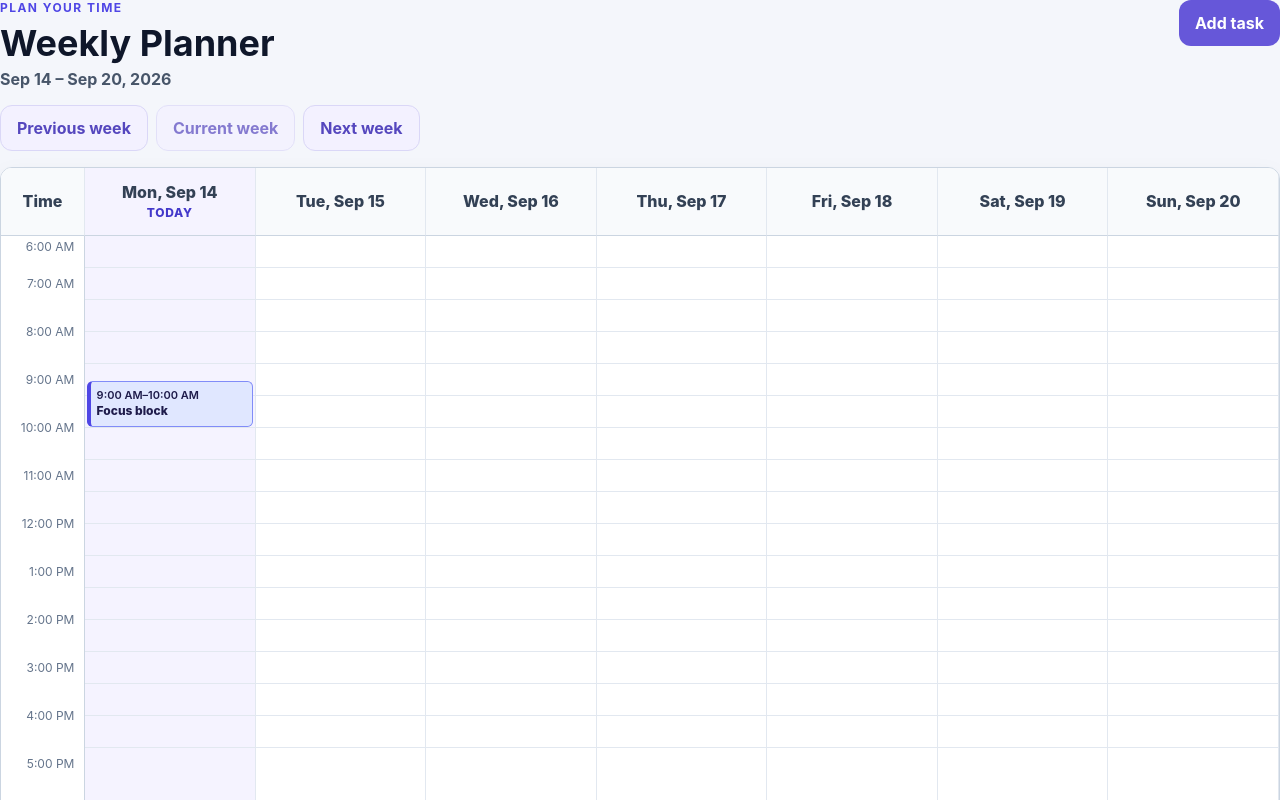
WeeklyPlannerPage › edits an existing task
Click the button with aria-label "Edit Focus block" at (170, 404), box [87,381,253,427]
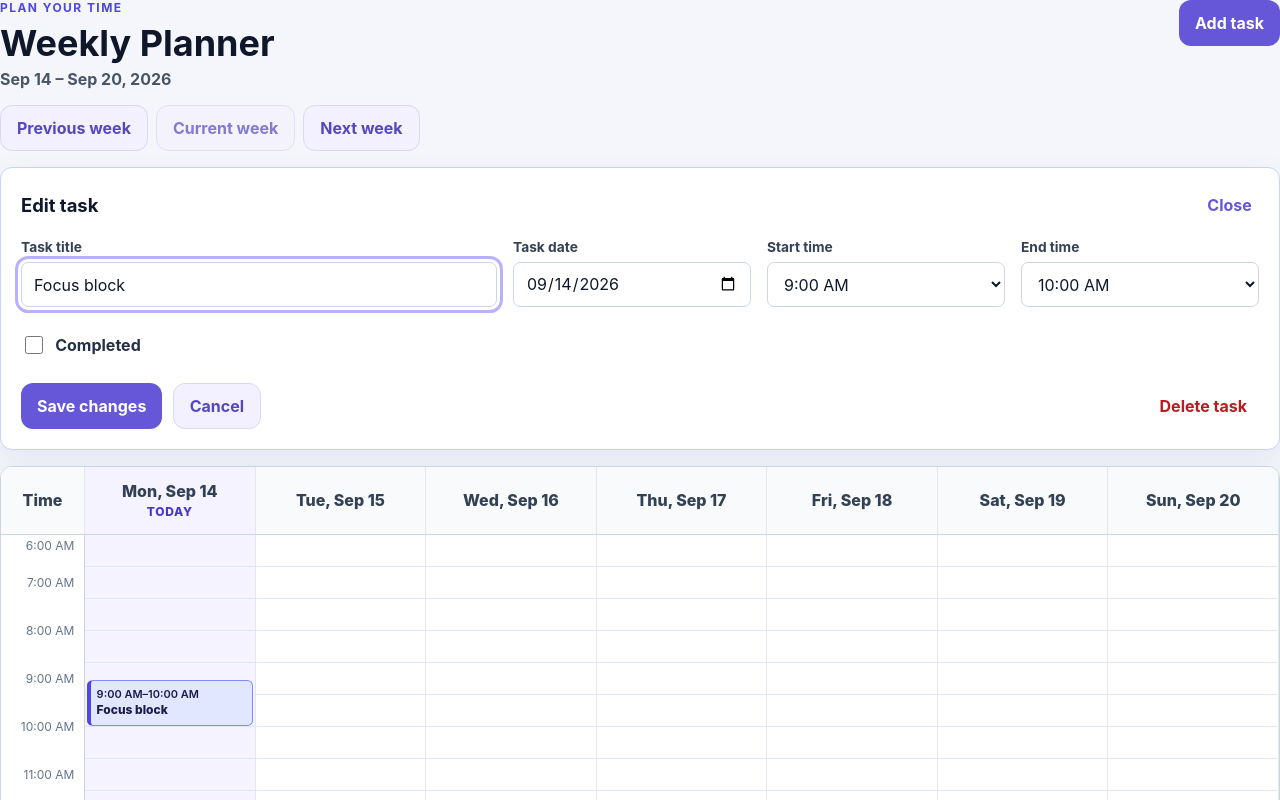
Replace the text in the field labelled "Task title" with "Deep work" at (259, 285), box [21,262,497,307]
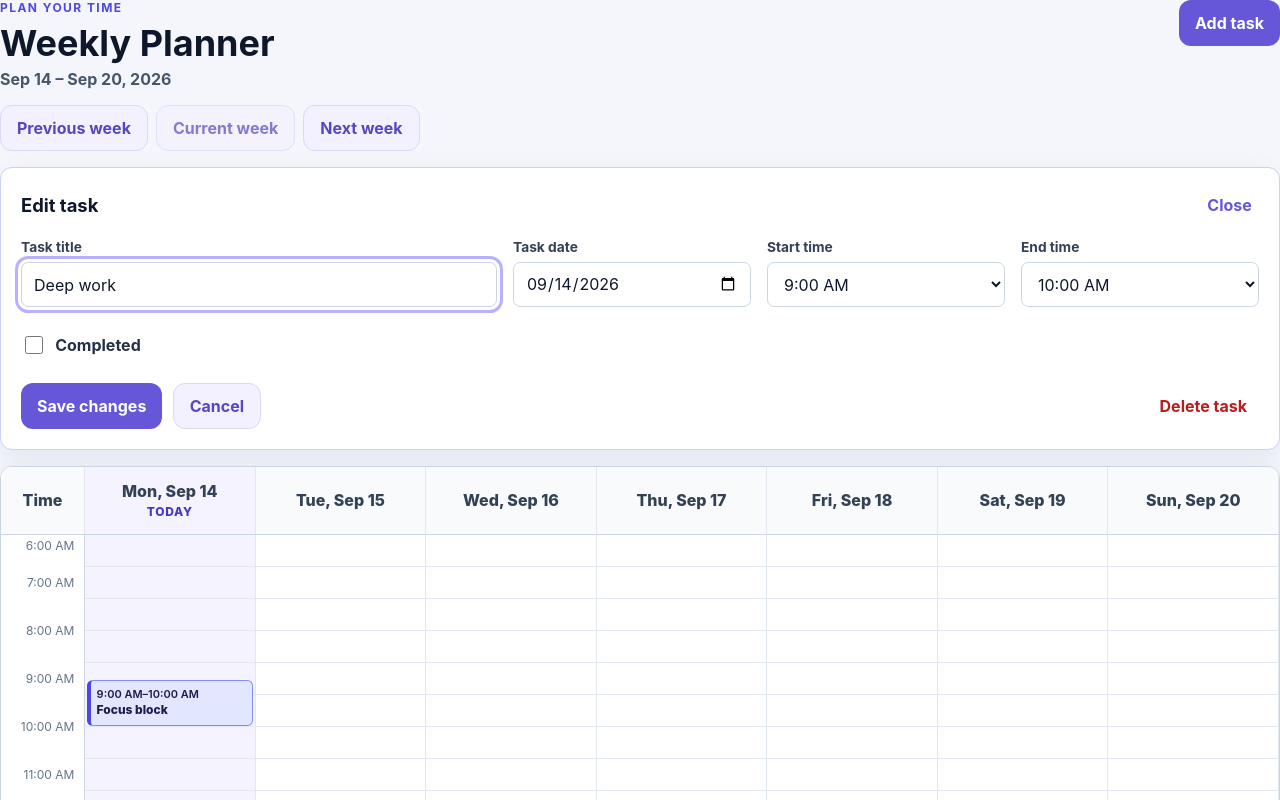
Click the button "Save changes" at (92, 406), box [21,383,162,429]
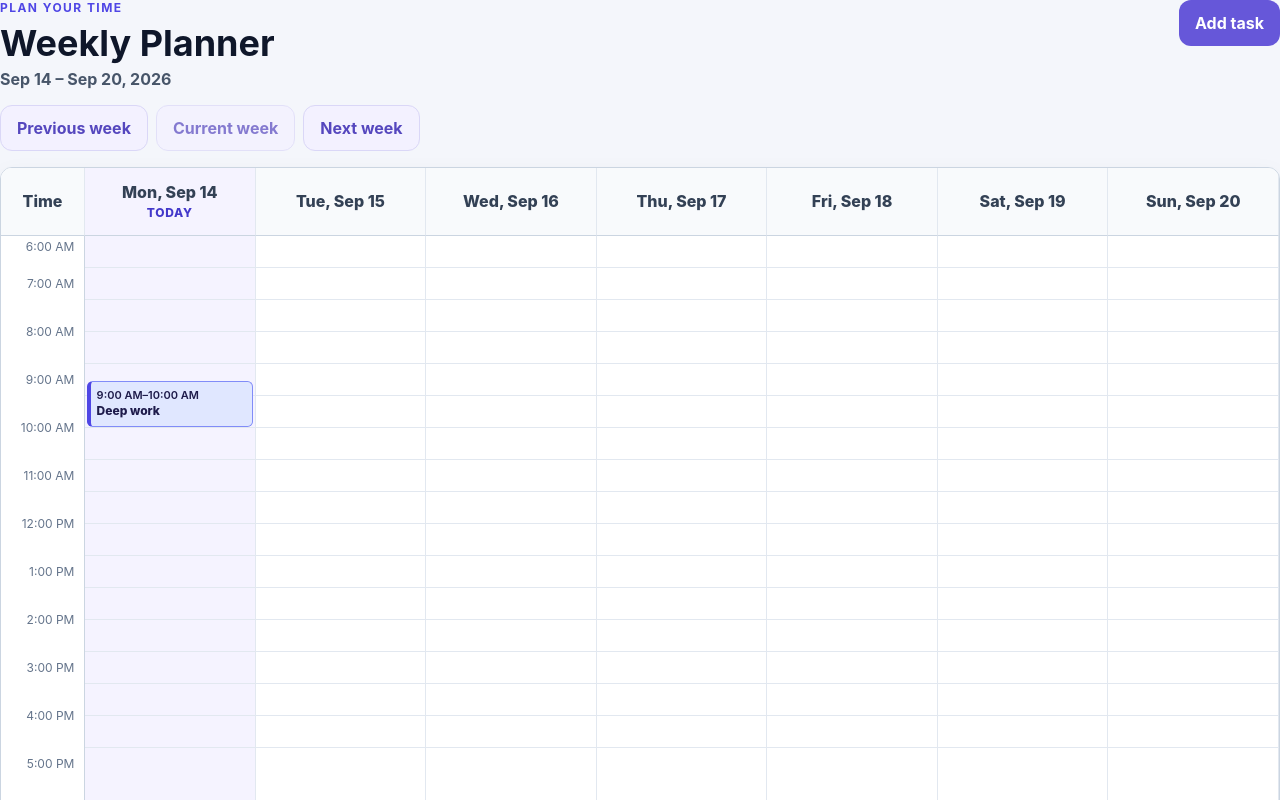
Now the text "Deep work" is shown, box [97,403,160,418]
